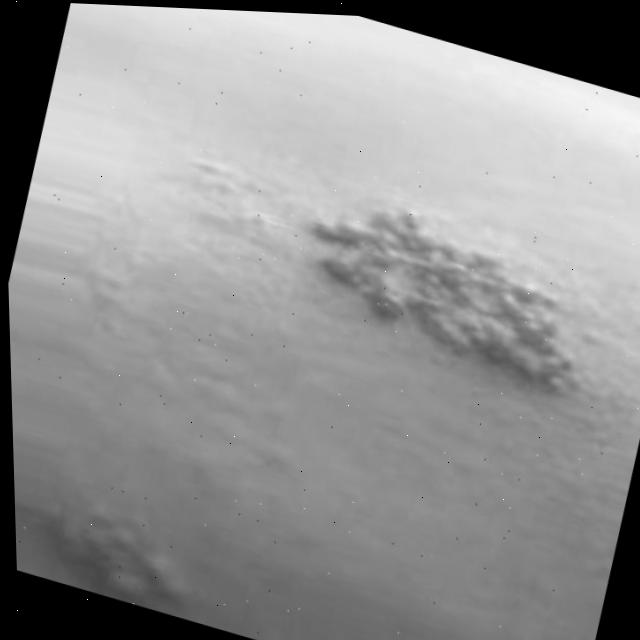Shingles: (291, 181, 600, 393)
